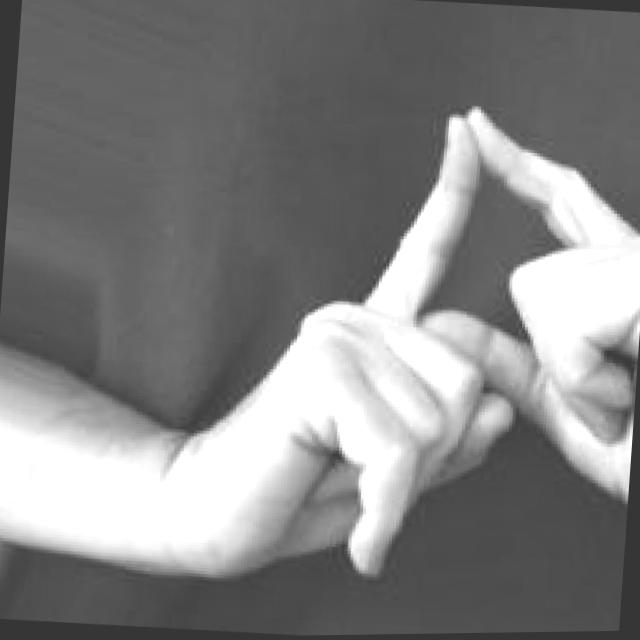D: (136, 82, 640, 625)
